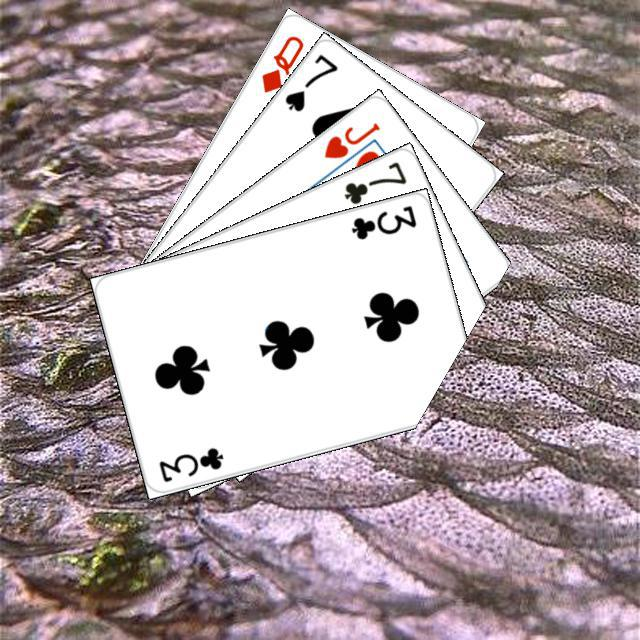3c: (153, 442, 226, 484), (346, 200, 418, 242)
7c: (339, 156, 409, 206)
7s: (279, 49, 340, 114)
Jh: (319, 117, 382, 161)
Qd: (256, 30, 306, 95)
